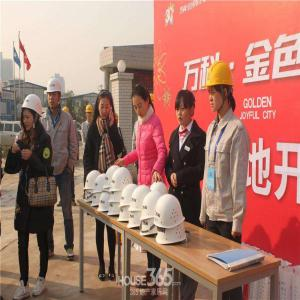none: (174, 90, 197, 127), (131, 83, 153, 119), (97, 90, 114, 121)
white: (20, 95, 44, 135), (45, 77, 64, 109)
yellow: (206, 60, 235, 115), (85, 104, 94, 121)
